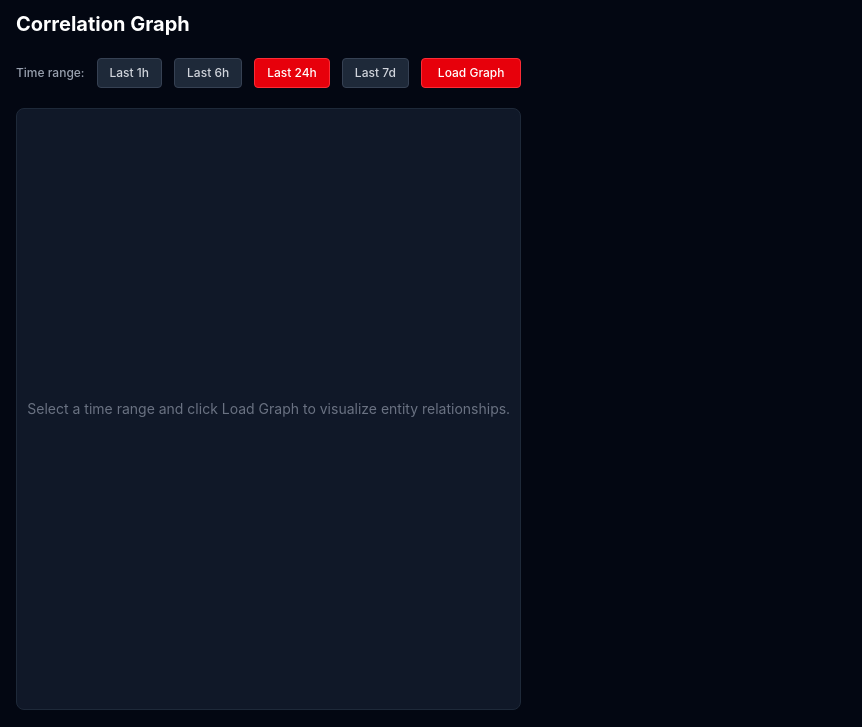
Scenario: CorrelationPage › empty result after load › shows "No entity data" message when rows are empty
The image size is (862, 727).
Click the button "Load Graph" at x=471, y=73, box [421,58,522,88]
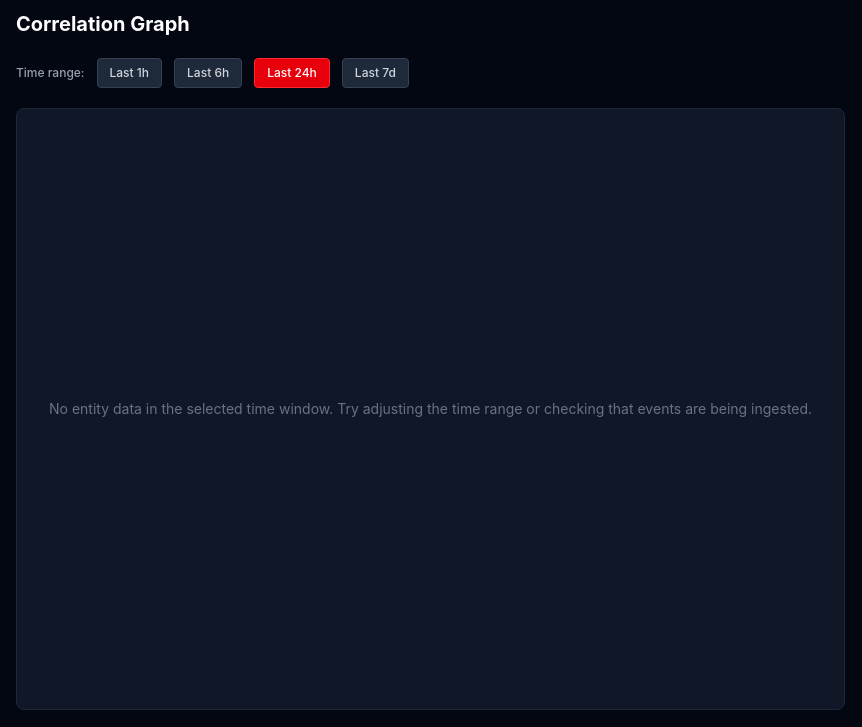
Expected: the text "No entity data in the selected time window" is shown, [49,400,812,417]
